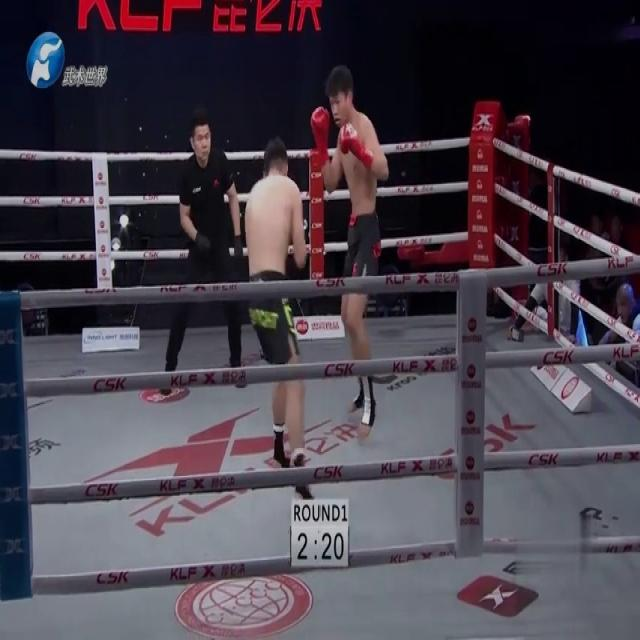fight: (238, 60, 390, 475)
non-fight: (167, 112, 255, 392), (592, 280, 639, 392)
